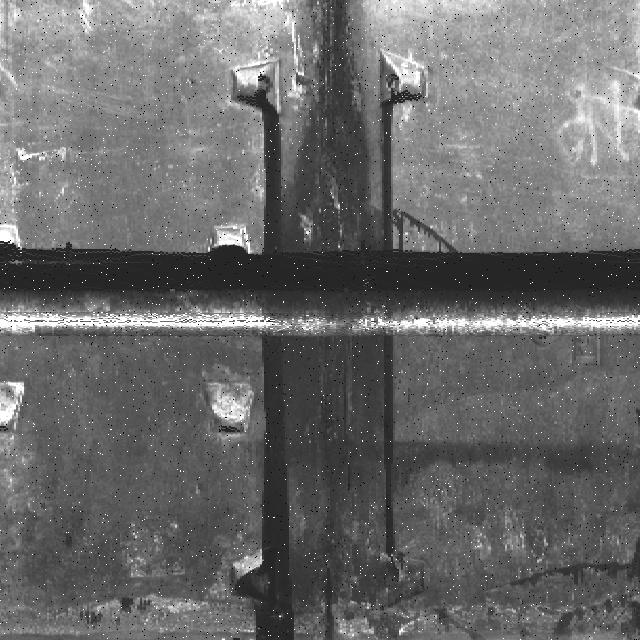leakage: (238, 339, 411, 640), (247, 1, 406, 261)
